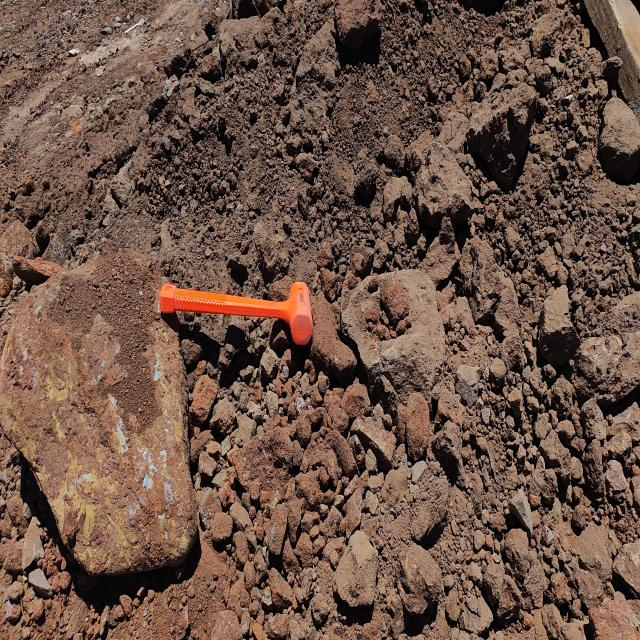Orange_hammer: (158, 278, 314, 346)
